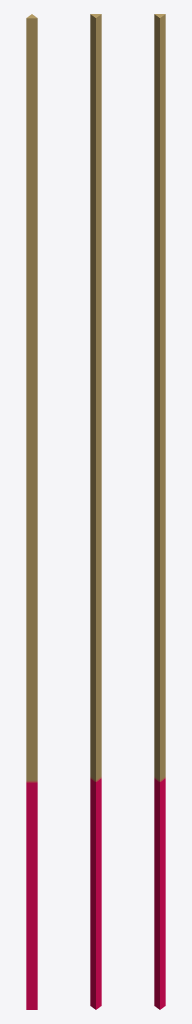
Rendered from Ncense.fbx.
The picture shows the model from 3 angles, left to right: view 1: azimuth 90°, elevation 25°; view 2: azimuth 150°, elevation 25°; view 3: azimuth 270°, elevation 25°; orthographic projection.
Visible parts, largest first — view 1: Ncense; view 2: Ncense; view 3: Ncense.
Boxes of the visible parts, x1,y1,x2,y2 form: Ncense: [26, 14, 37, 1009]; Ncense: [90, 14, 101, 1009]; Ncense: [154, 14, 165, 1009].
Size of the model in its own units: 0.00203 by 0.2226 by 0.00235.
Materials: 1 (1 with a texture image).
